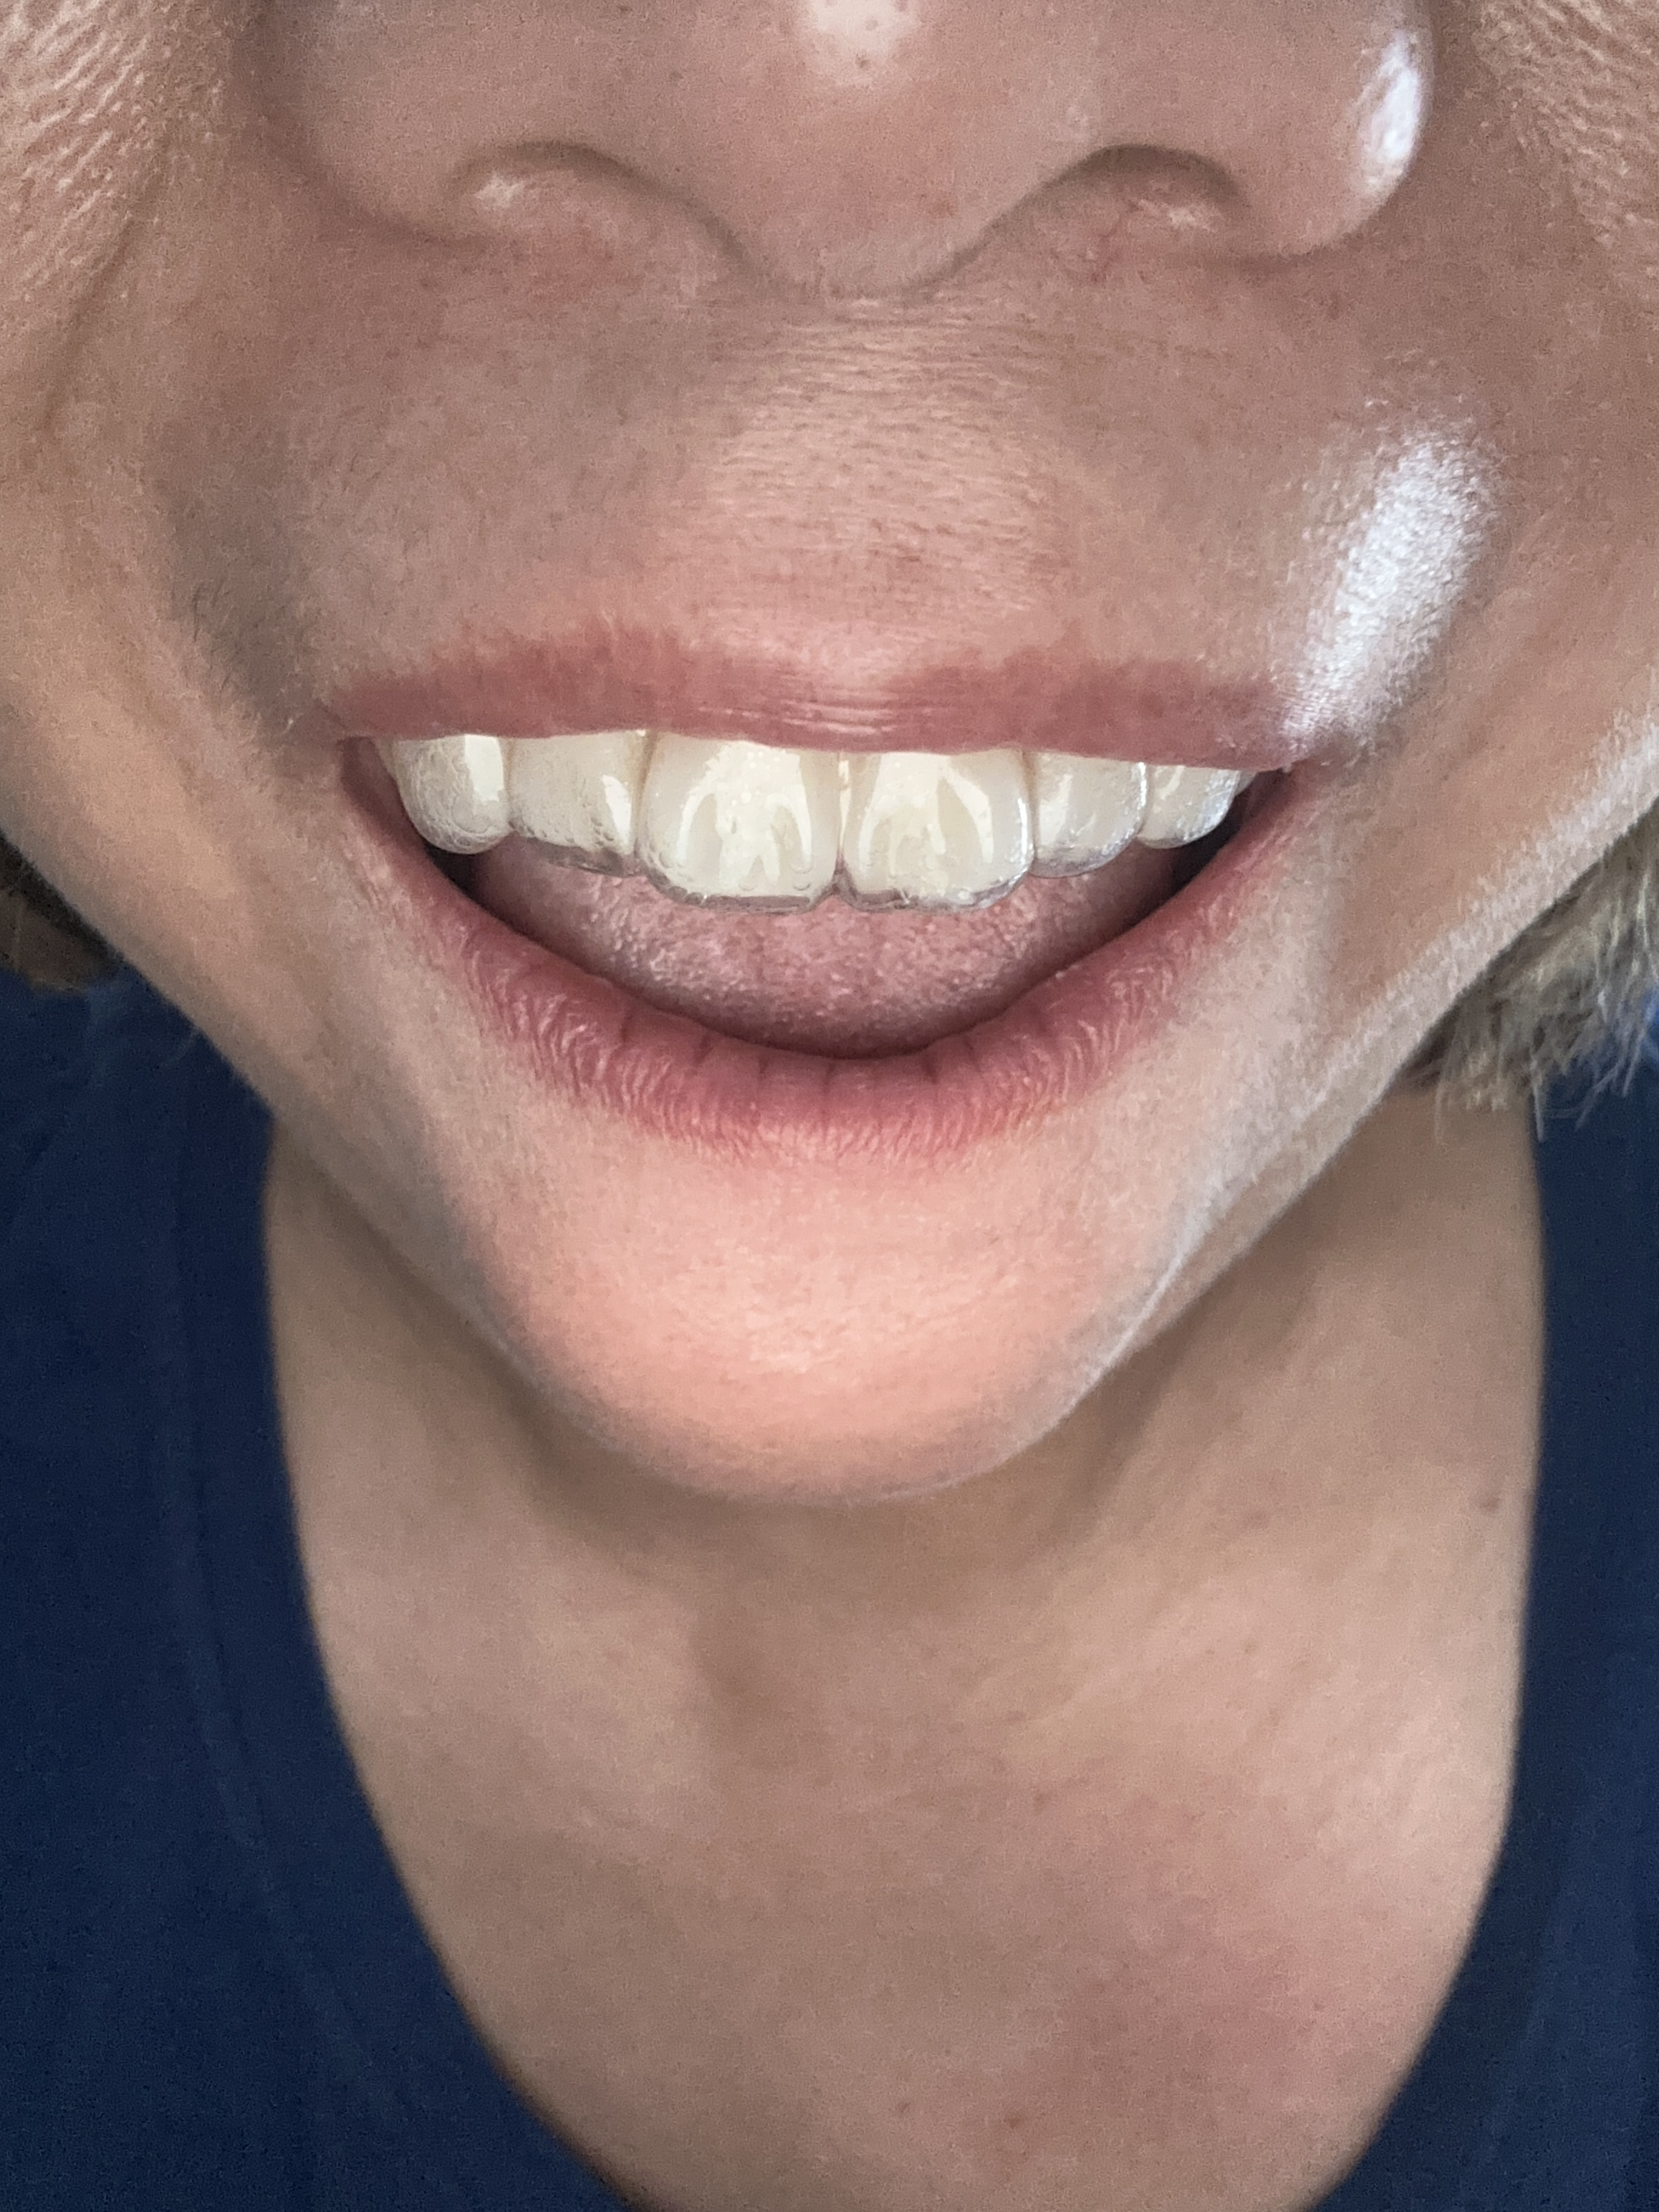teeth: (643, 730, 836, 904), (842, 742, 1030, 909), (491, 725, 643, 852), (1039, 752, 1150, 853), (397, 735, 498, 834), (1138, 765, 1234, 836)
